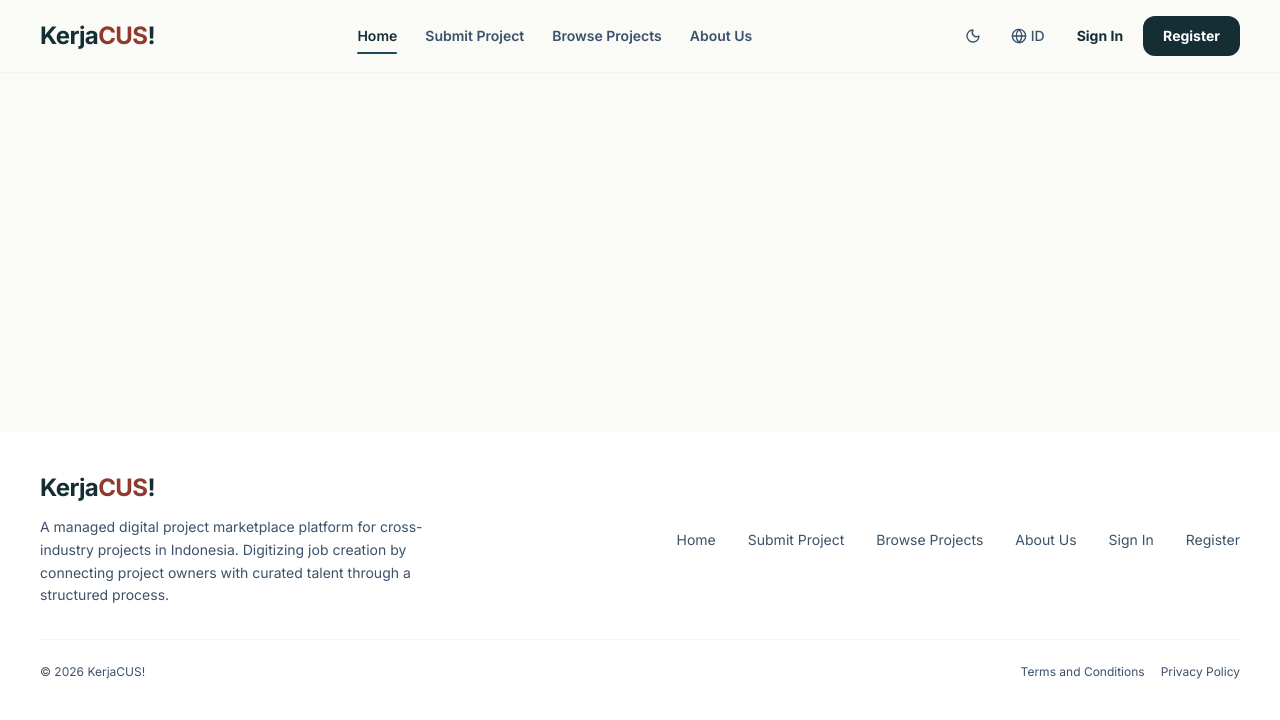
Scenario: the header navigation › switches the theme and offers the way back
This screenshot has width=1280, height=720.
Click the button named "Dark Mode" at (973,36), box 955,18 -> 991,54
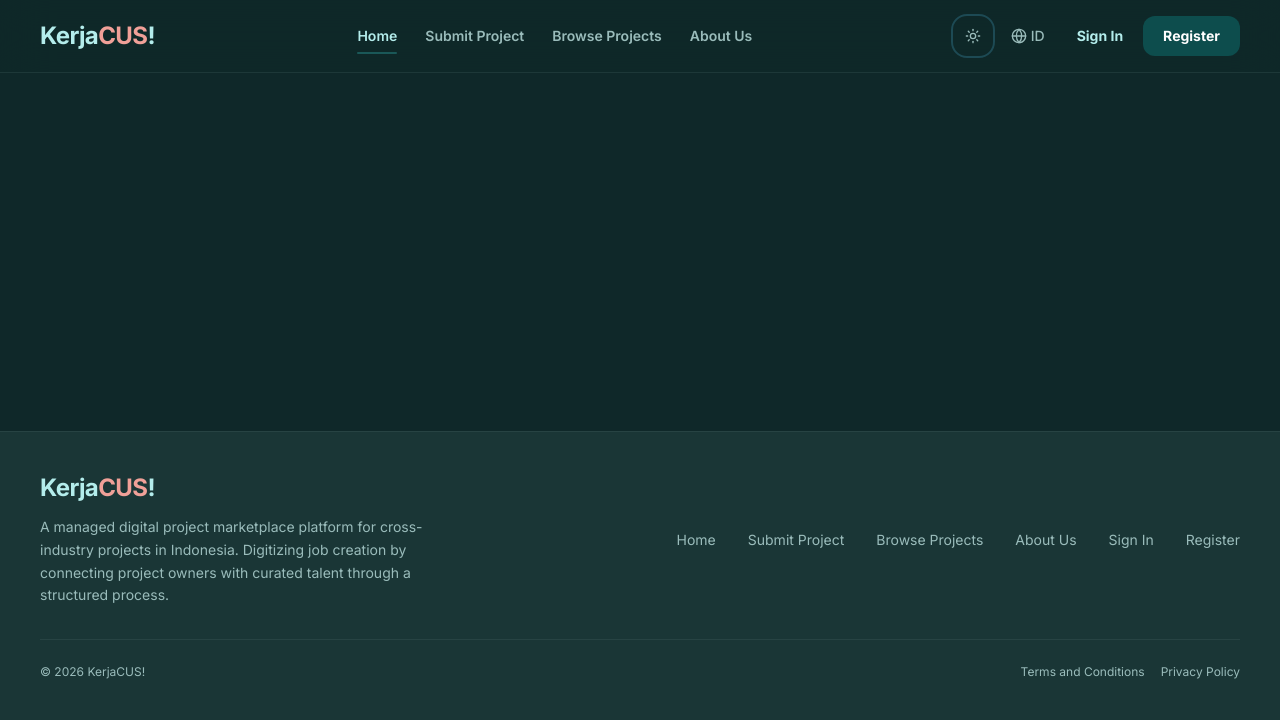
Expected: the button named "Light Mode" is shown, 955,18 -> 991,54
